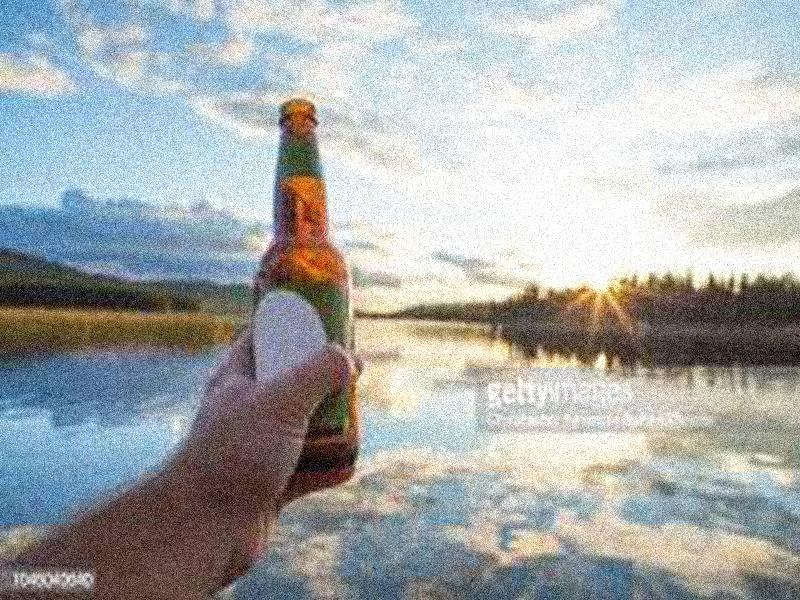Beer: (250, 98, 361, 466)
